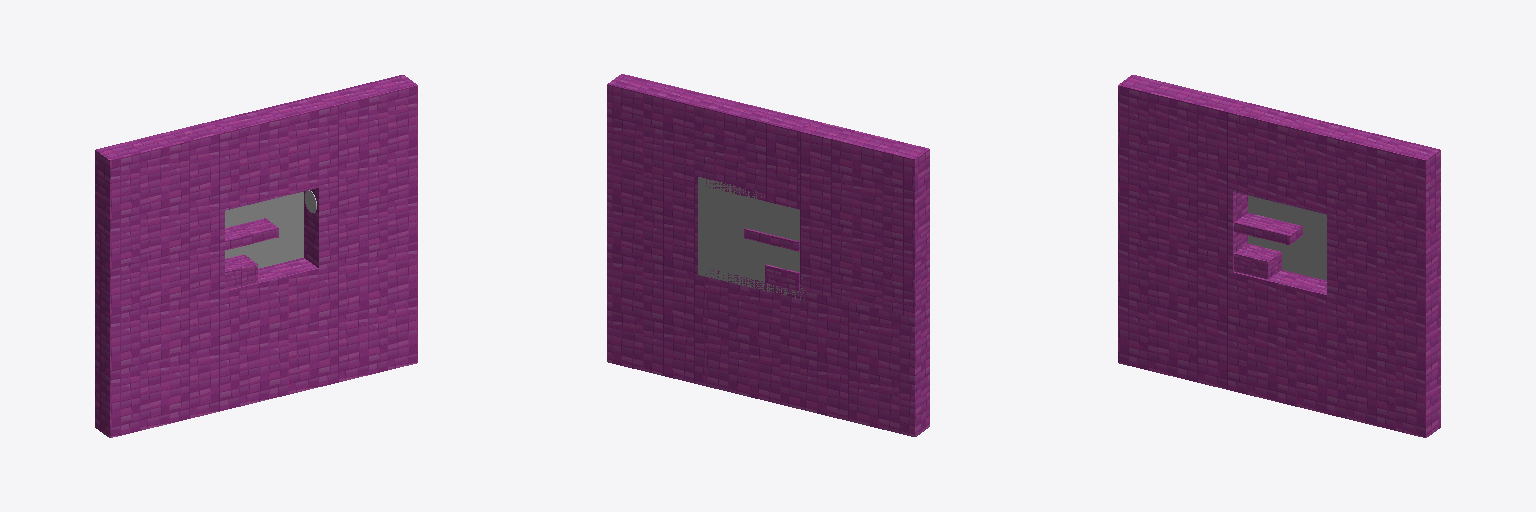
3 views of the same model, side by side, from view 1: azimuth 30°, elevation 25°; view 2: azimuth 150°, elevation 25°; view 3: azimuth 330°, elevation 25° (orthographic).
Parts seen in each view (by area): view 1: Cube, Plane, Cube.002, Cube.001; view 2: Cube, Plane, Cube.001, Cube.002; view 3: Cube, Plane, Cube.002, Cube.001.
Part boxes in pixels (x1,y1,x2,y2): Cube: (95, 75, 417, 437); Plane: (225, 192, 303, 268); Cube.002: (225, 218, 278, 249); Cube.001: (225, 255, 257, 289); Cube: (607, 74, 929, 436); Plane: (698, 177, 804, 299); Cube.001: (765, 264, 799, 290); Cube.002: (744, 228, 799, 251); Cube: (1118, 75, 1440, 437); Plane: (1248, 195, 1326, 280); Cube.002: (1234, 213, 1302, 244); Cube.001: (1234, 244, 1281, 278).
Size of the model in its own units: 36.04 by 31.01 by 3.24.
4 materials, 1 textured.